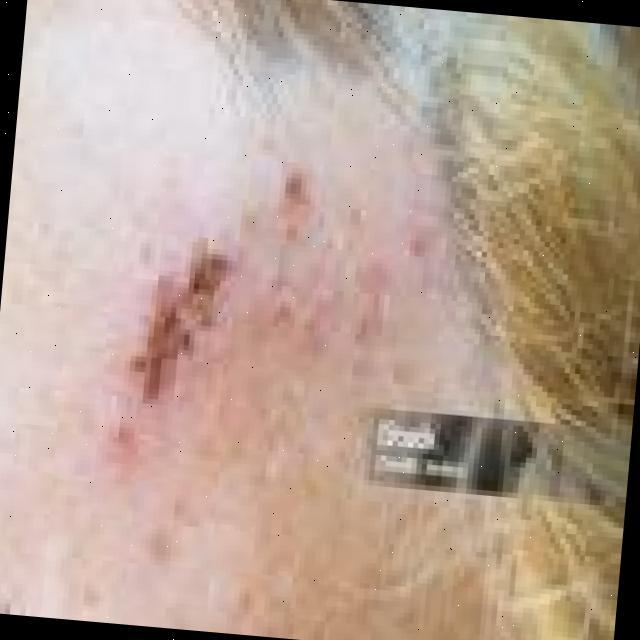Shingles: (113, 237, 245, 423)
